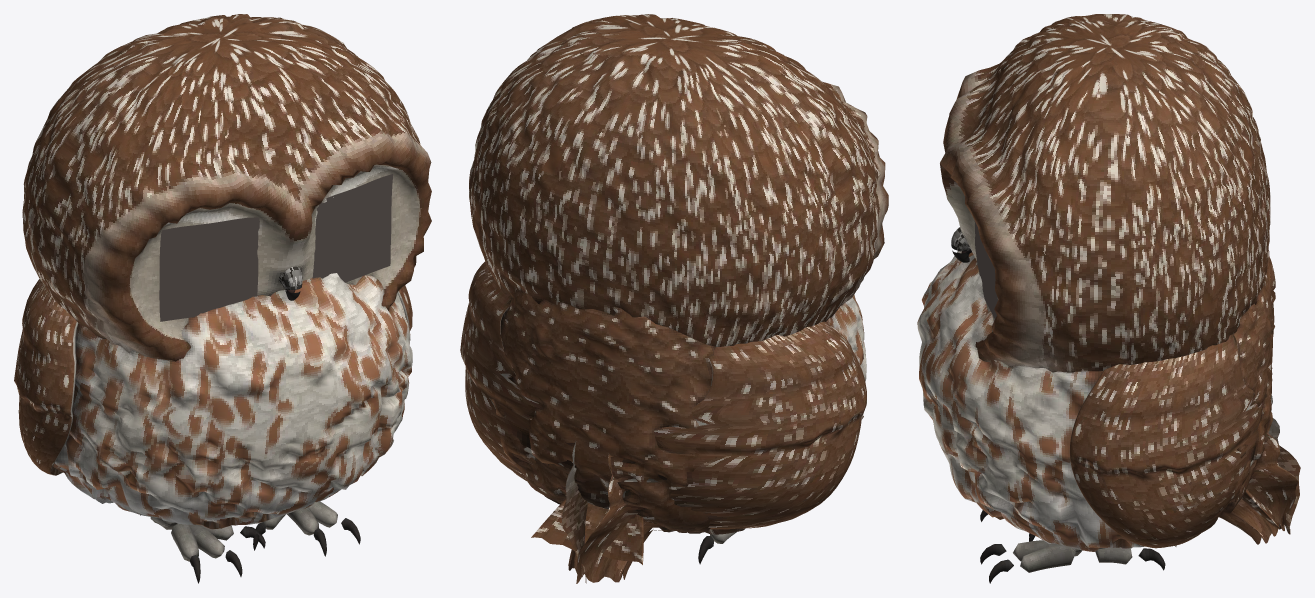
The model's file is sawwhet.glb.
The picture shows the model from 3 angles, left to right: view 1: azimuth 30°, elevation 25°; view 2: azimuth 150°, elevation 25°; view 3: azimuth 270°, elevation 25°; orthographic projection. The views are drawn at different scales.
Parts seen in each view (by area): view 1: head_mesh, body_mesh, wing_l_mesh, eye_l, eye_r, leg_lt0_mesh, leg_lt1_mesh, beak_mesh; view 2: head_mesh, body_mesh, wing_l_mesh, wing_r_mesh, tail_mesh; view 3: head_mesh, body_mesh, wing_r_mesh, leg_rt0_mesh, eye_r, wing_l_mesh, leg_rt3_mesh.
Boxes of the visible parts, x1,y1,x2,y2 form: head_mesh: (22, 14, 431, 361); body_mesh: (53, 273, 412, 529); wing_l_mesh: (14, 279, 78, 475); eye_l: (159, 217, 259, 321); eye_r: (312, 174, 393, 282); leg_lt0_mesh: (171, 523, 198, 561); leg_lt1_mesh: (188, 524, 224, 558); beak_mesh: (279, 266, 302, 300); head_mesh: (469, 14, 888, 346); body_mesh: (491, 290, 866, 534); wing_l_mesh: (576, 321, 866, 583); wing_r_mesh: (460, 261, 587, 583); tail_mesh: (531, 498, 643, 564); head_mesh: (940, 14, 1270, 372); body_mesh: (917, 250, 1275, 551); wing_r_mesh: (1069, 334, 1298, 548); leg_rt0_mesh: (1020, 544, 1076, 572); eye_r: (974, 220, 997, 318); wing_l_mesh: (1268, 395, 1300, 534); leg_rt3_mesh: (1095, 548, 1132, 564).
Size of the model in its own units: 21.41 by 26.33 by 18.39.
Materials: 2 (1 with a texture image).
